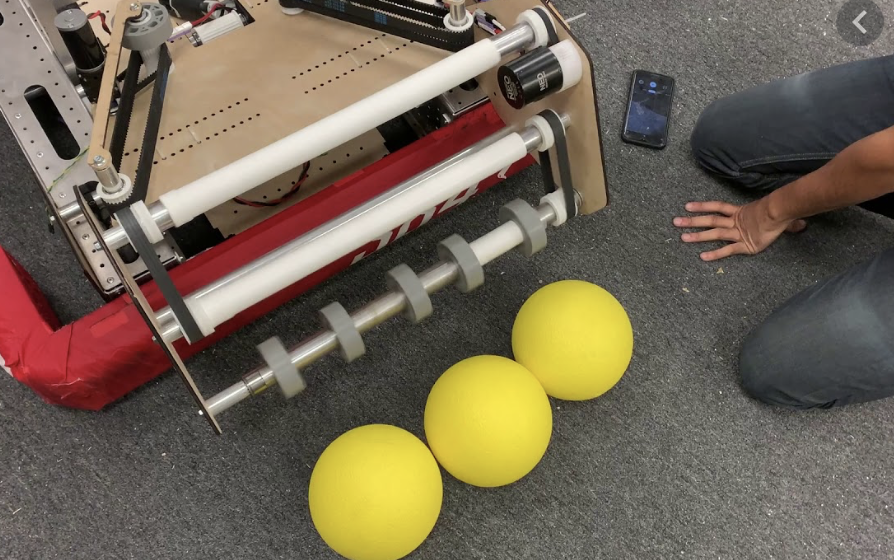powercell: (283, 419, 442, 555), (410, 355, 565, 491), (502, 281, 637, 397)
